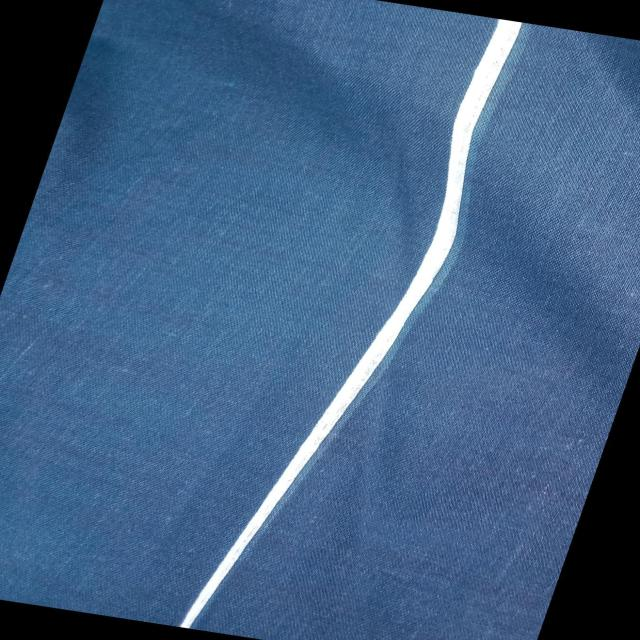selvet: (172, 232, 452, 640), (403, 16, 554, 258)
